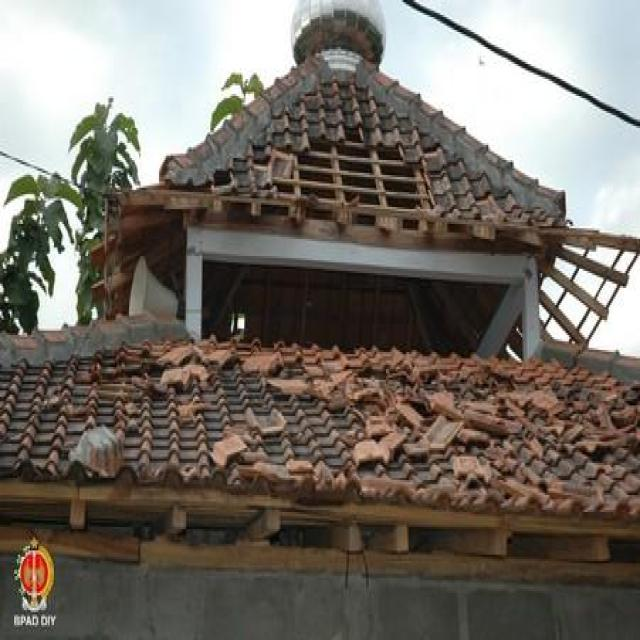damage: (179, 318, 640, 561), (188, 47, 478, 302)
